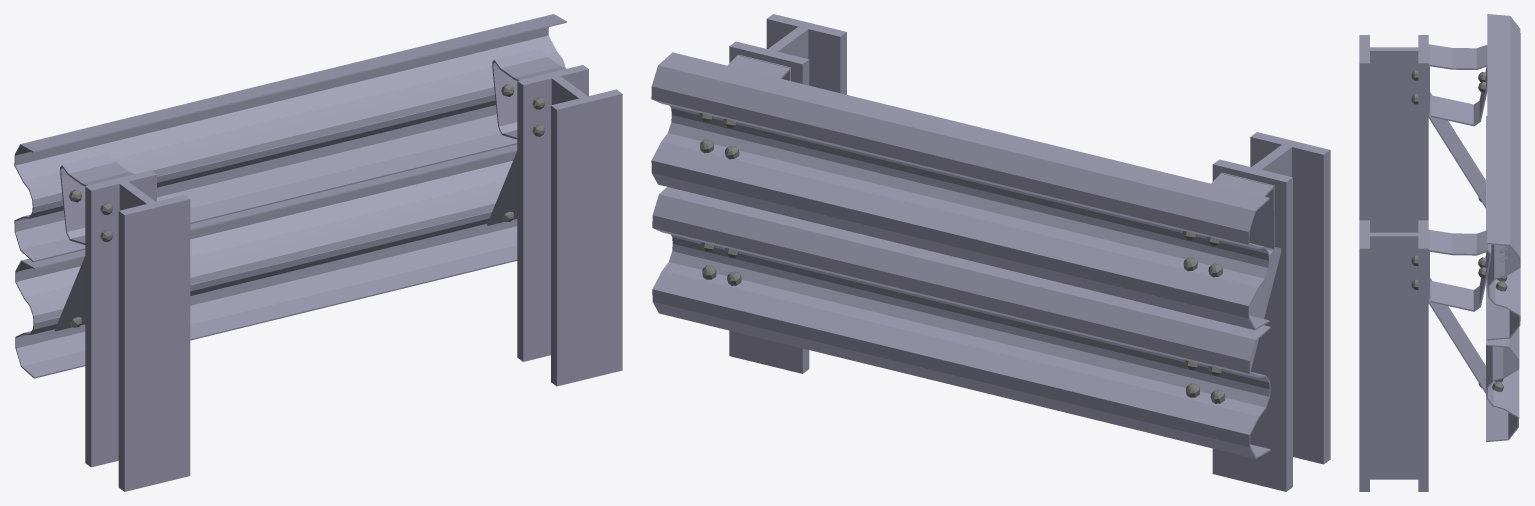
The model's file is leitplanke_2.glb.
The picture shows the model from 3 angles, left to right: view 1: azimuth 30°, elevation 25°; view 2: azimuth 150°, elevation 25°; view 3: azimuth 270°, elevation 25°; orthographic projection. The views are drawn at different scales.
Visible parts, largest first — view 1: Plane.003; view 2: Plane.003; view 3: Plane.003.
Part boxes in pixels (x1=…): Plane.003: x1=14, y1=14, x2=622, y2=491; Plane.003: x1=651, y1=14, x2=1330, y2=491; Plane.003: x1=1359, y1=14, x2=1520, y2=491.
Bounding box in the file's own units: 4.04 × 2.11 × 1.2.
